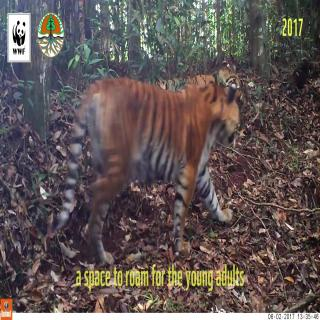Tiger: (60, 54, 255, 236)
